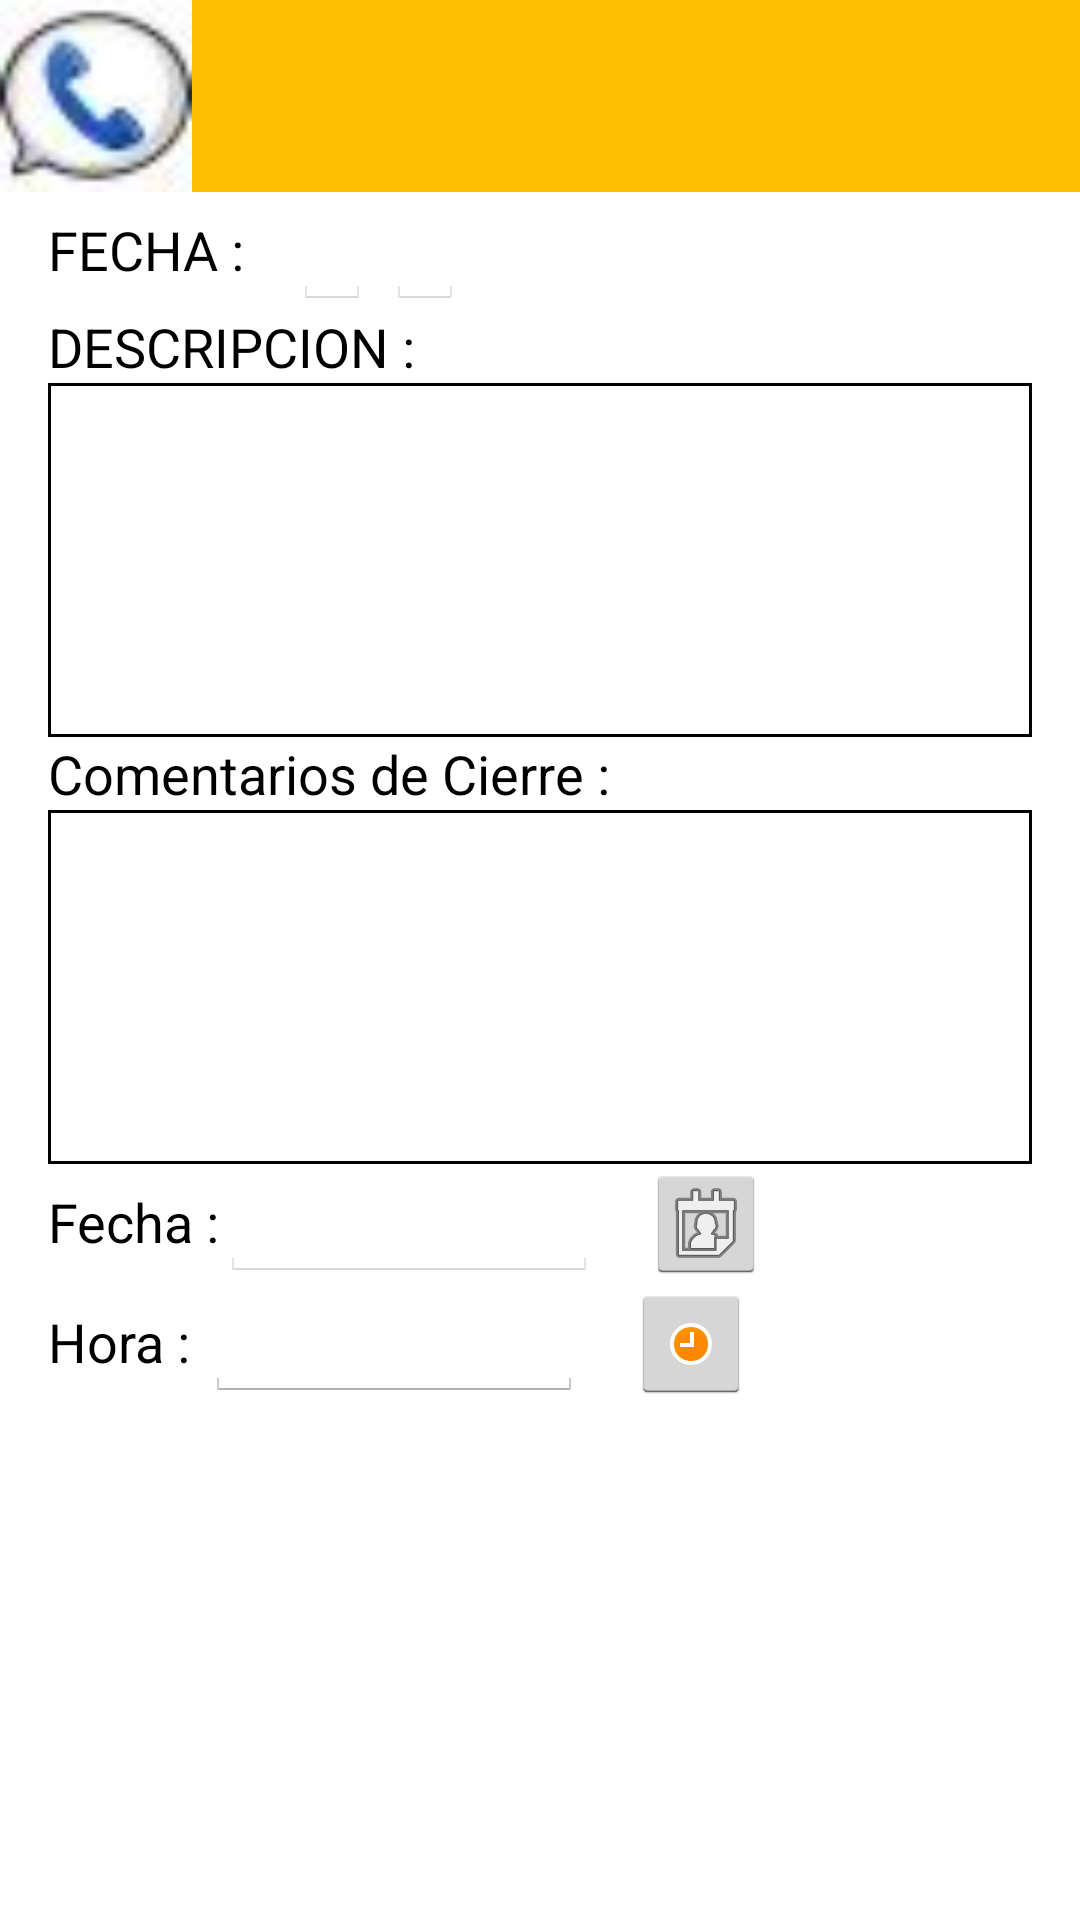

Point at icon controls on the screen. Image size 1080px×1920px, points as (x=x, y=y).
calendar: (x=706, y=1225)
presence away: (x=691, y=1345)
